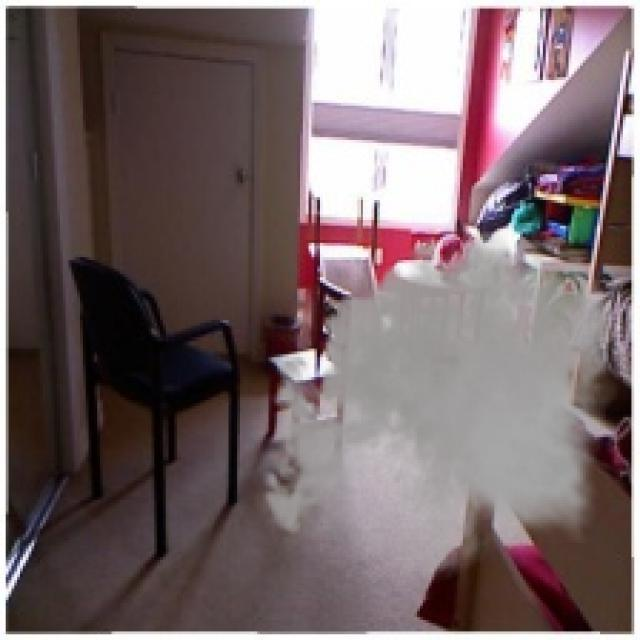Smoke: (251, 217, 626, 594)
